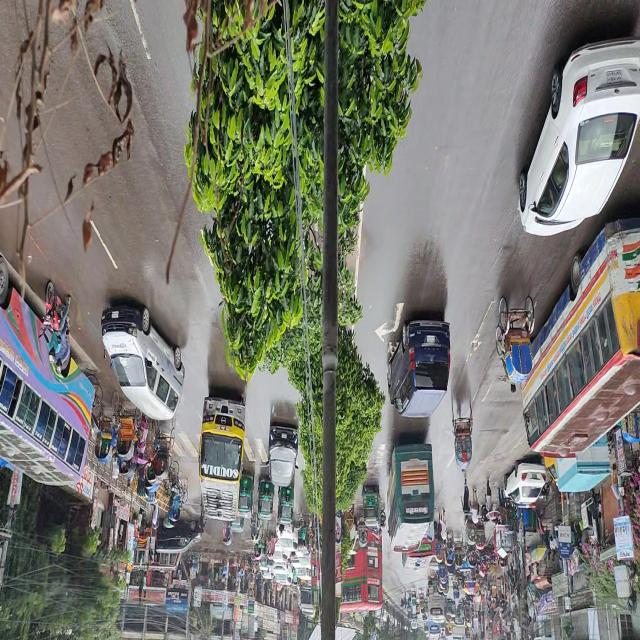black: (267, 423, 298, 488), (152, 518, 203, 553)
blue: (386, 312, 450, 419)
silver: (100, 301, 184, 426)
white: (518, 37, 640, 238), (504, 459, 550, 507)
